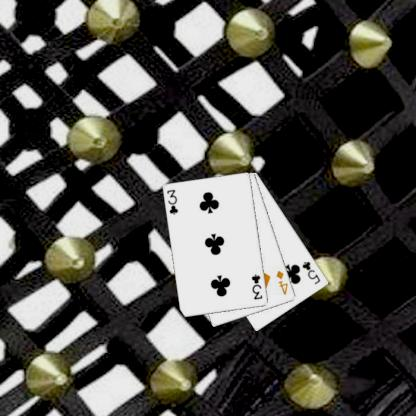3C: (164, 188, 180, 216), (249, 272, 264, 301)
4D: (274, 268, 289, 296)
5C: (300, 258, 322, 286)
